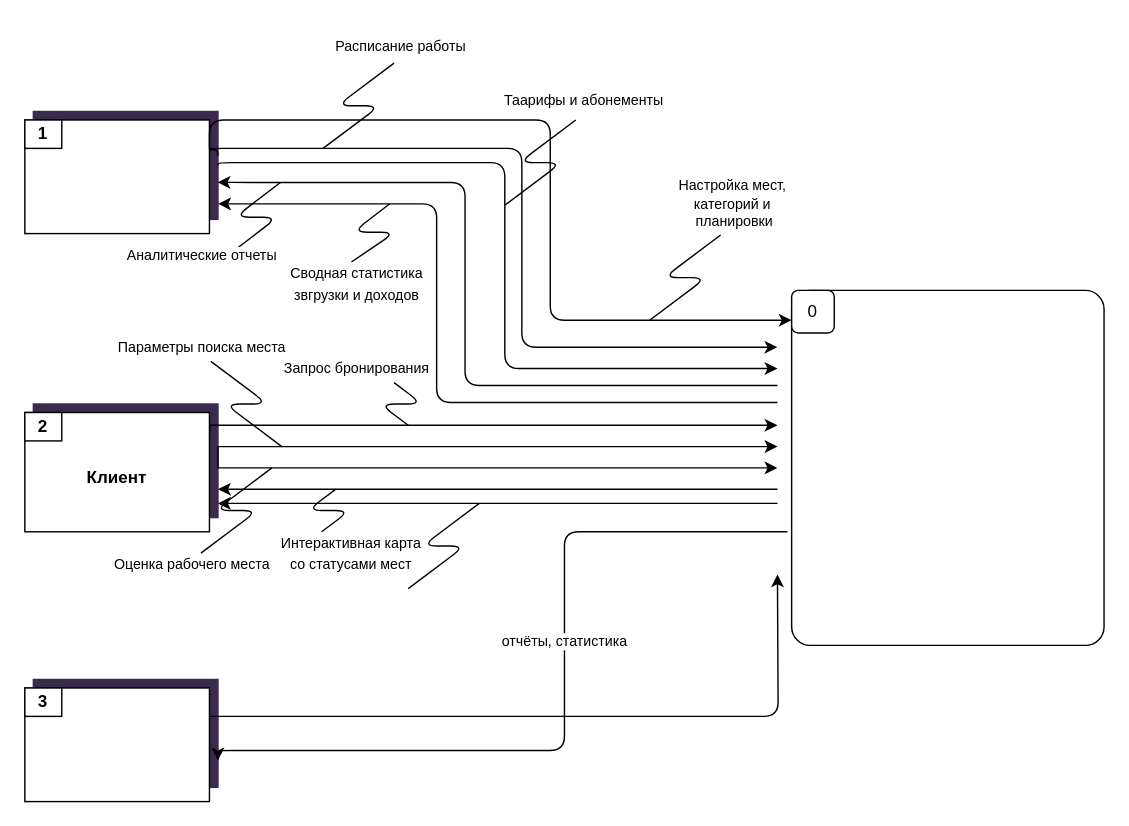
The diagram is 1129 pixels wide and 826 high, and some of its shapes have lost their labels. Each missing label, with the box of its shape:
Администратор: (23, 119, 209, 234)
Менеджер: (23, 687, 209, 802)
Система управления рабочими местами в коворкинге: (790, 289, 1104, 645)
